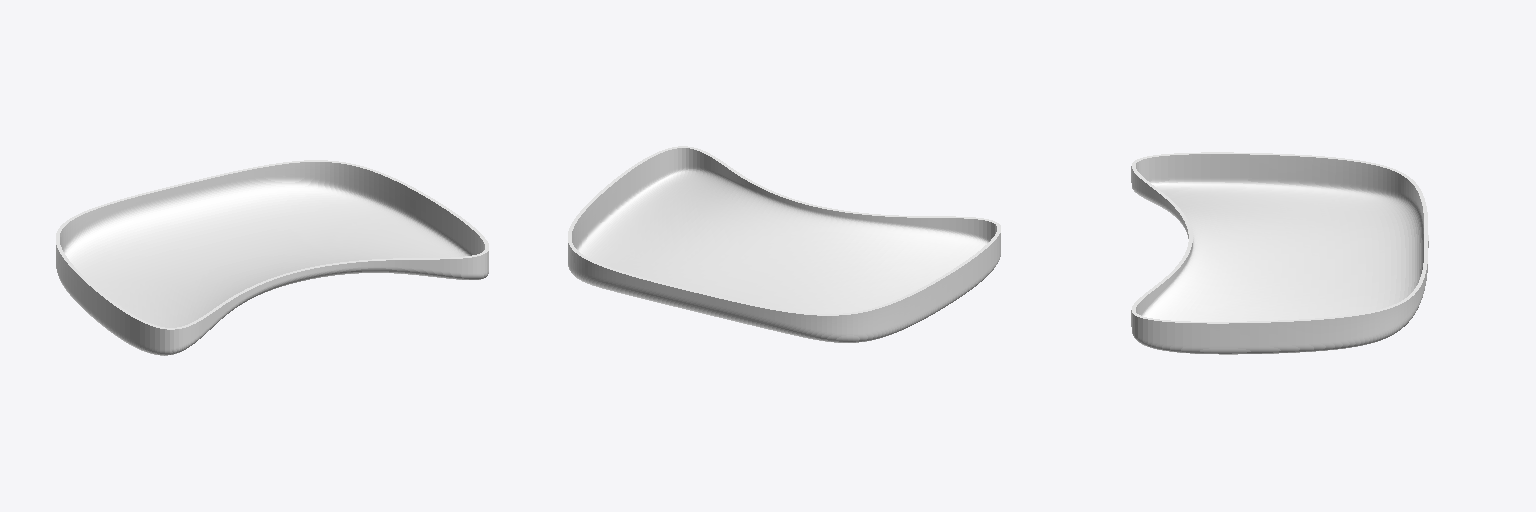
File: top-case.obj
The picture shows the model from 3 angles: view 1: azimuth 30°, elevation 25°; view 2: azimuth 150°, elevation 25°; view 3: azimuth 270°, elevation 25°; orthographic projection.
Visible parts, largest first — view 1: Object.1; view 2: Object.1; view 3: Object.1.
Boxes of the visible parts, <box> form: Object.1: <box>56,160,488,355</box>; Object.1: <box>568,146,1000,342</box>; Object.1: <box>1131,152,1428,354</box>.
Bounding box in the file's own units: 129 × 12.71 × 94.83.